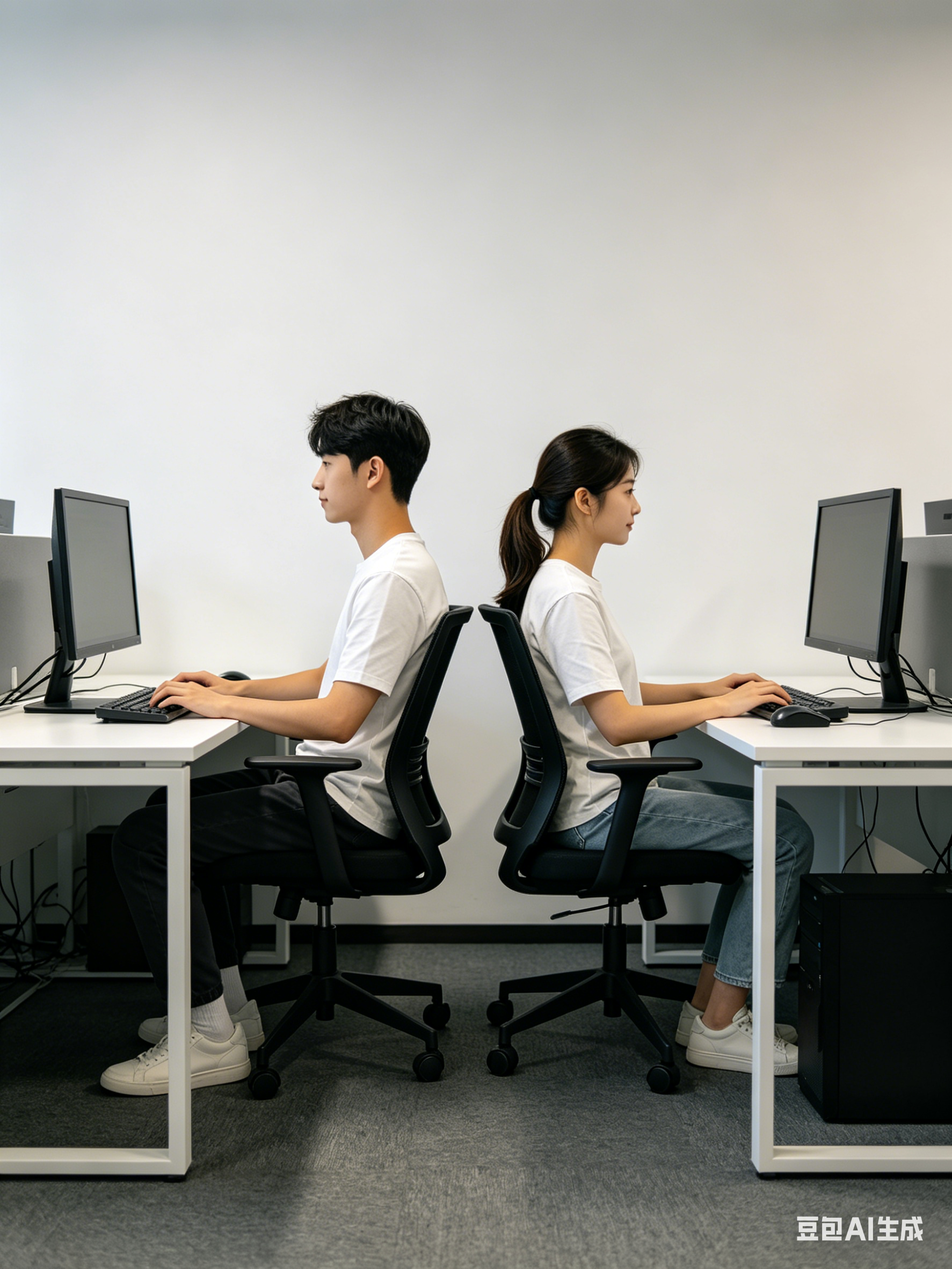sitting_good: (478, 378, 799, 980), (172, 382, 477, 893)
